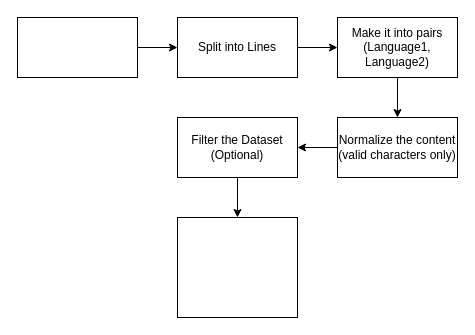
Some shapes in this 475 by 335 pixel diagram are drawn without their labels. Each missing label, with the box of its shape:
Make Word List from Sentence Word2Index Index2Word Word2Count: (176, 216, 298, 318)
Read Dataset: (16, 16, 138, 78)
